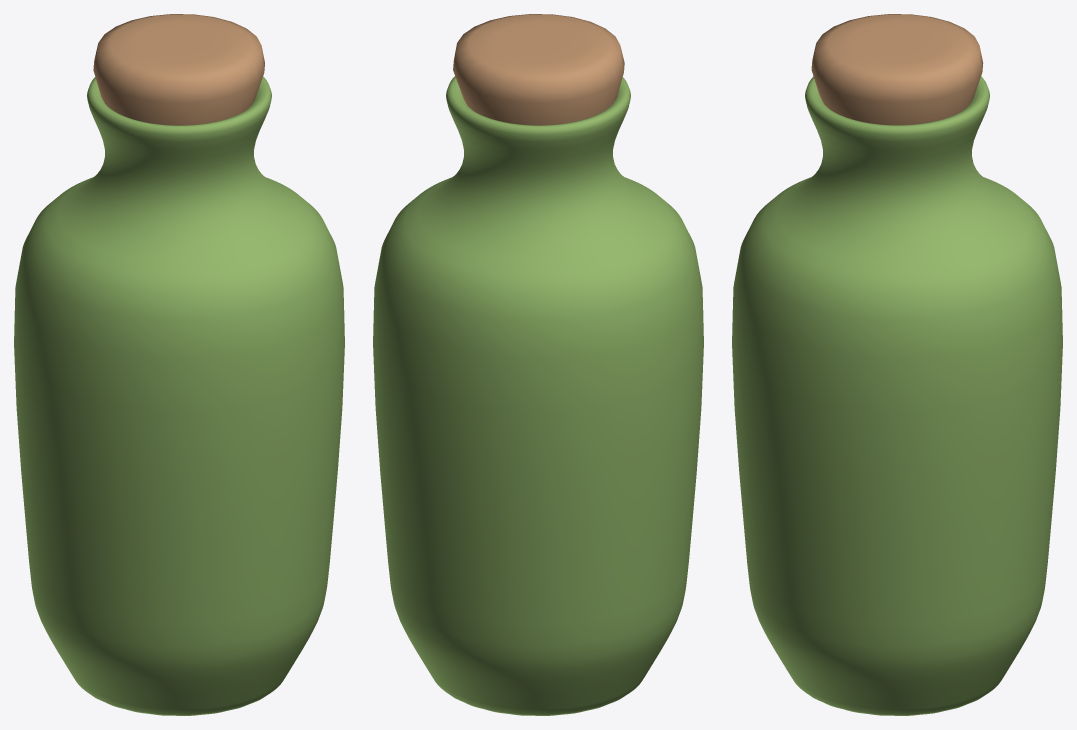
The model's file is market-bottle4.fbx.
The picture shows the model from 3 angles, left to right: view 1: azimuth 30°, elevation 25°; view 2: azimuth 150°, elevation 25°; view 3: azimuth 270°, elevation 25°; orthographic projection.
Parts seen in each view (by area): view 1: Circle.044, Circle.045; view 2: Circle.044, Circle.045; view 3: Circle.044, Circle.045.
Boxes of the visible parts, bbox=[...] form: Circle.044: bbox=[14, 76, 344, 715]; Circle.045: bbox=[93, 14, 264, 125]; Circle.044: bbox=[373, 76, 703, 715]; Circle.045: bbox=[453, 14, 624, 125]; Circle.044: bbox=[732, 76, 1062, 715]; Circle.045: bbox=[811, 14, 983, 125].
Bounding box in the file's own units: 22.85 × 48.05 × 22.85.
